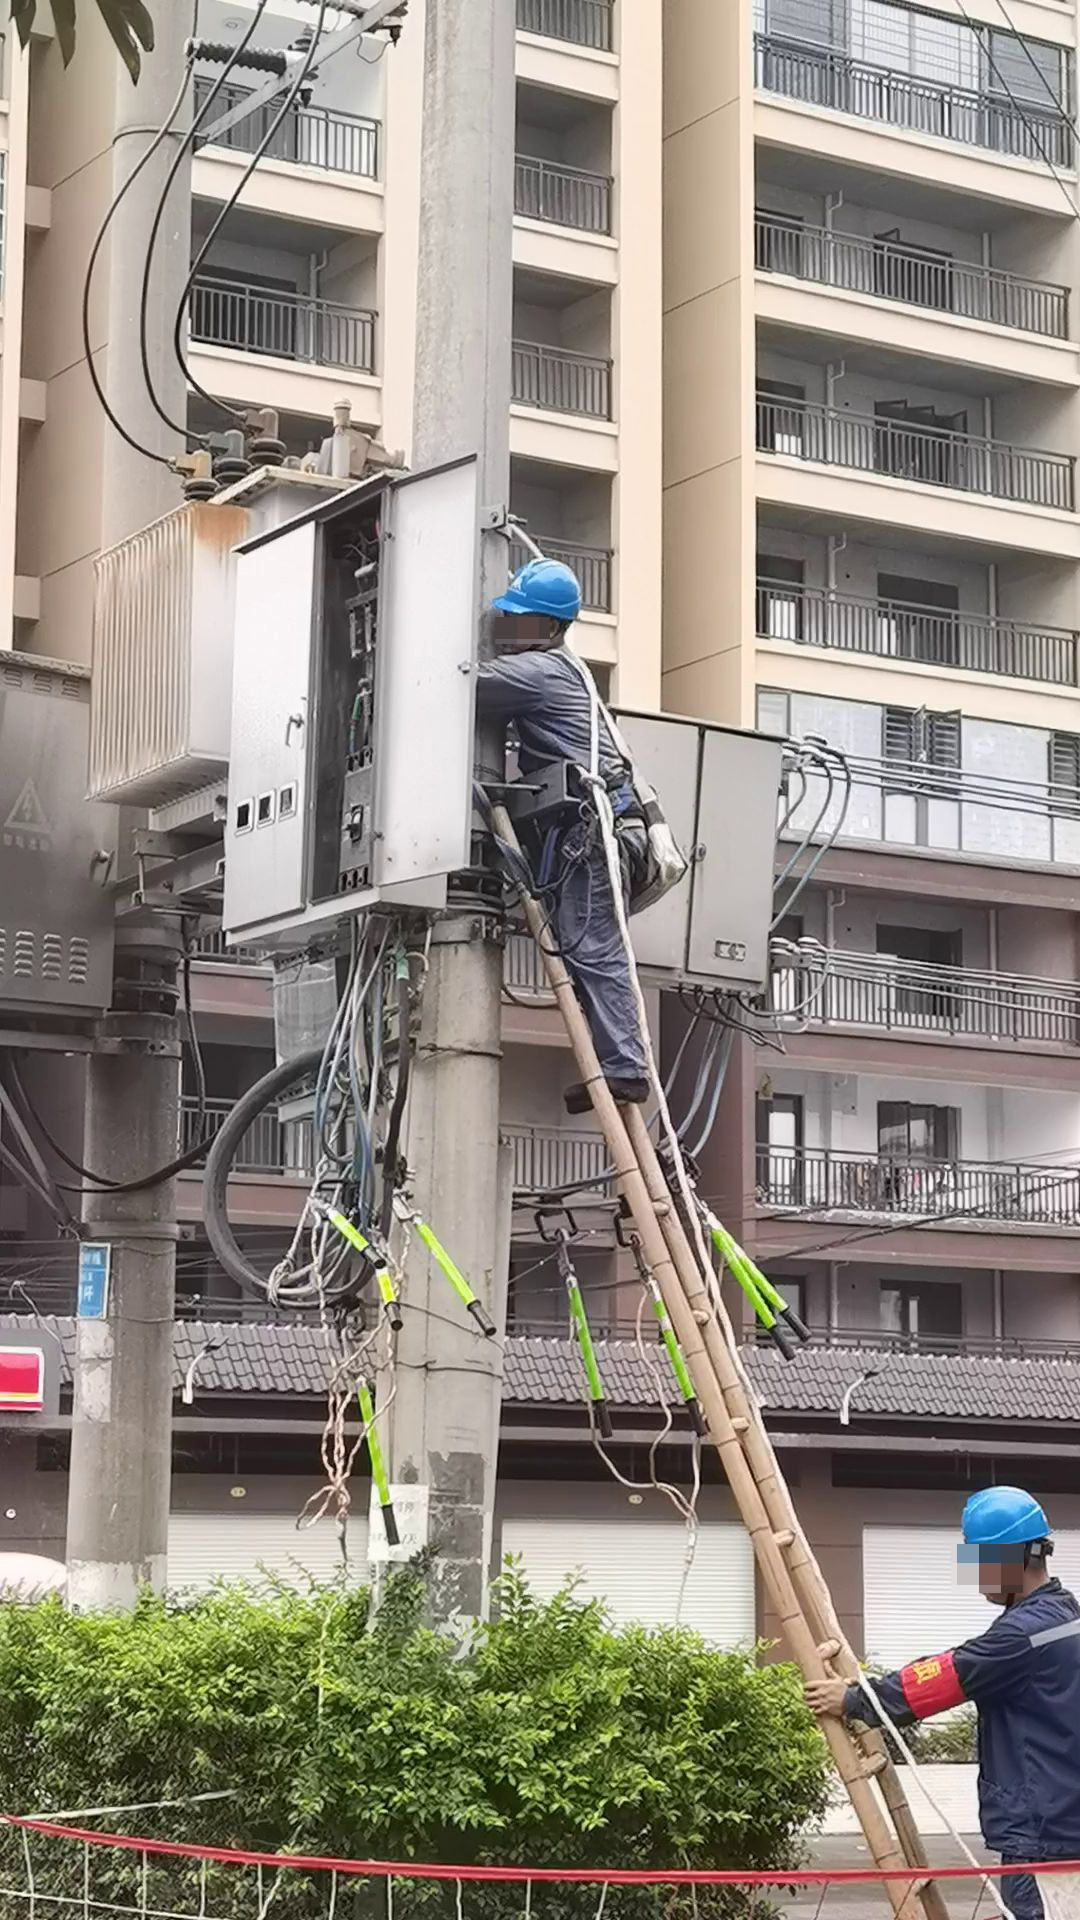badge: (896, 1650, 964, 1717)
downsuit: (522, 810, 654, 1075), (990, 1851, 1079, 1920)
halt: (957, 1486, 1054, 1594), (491, 560, 583, 643)
hand: (802, 1677, 855, 1719)
inear: (988, 1540, 1043, 1602), (530, 609, 562, 651)
person: (459, 559, 667, 1097), (839, 1480, 1080, 1920)
support: (790, 1452, 1080, 1920)
upsuit: (879, 1582, 1080, 1836), (473, 645, 637, 813)
